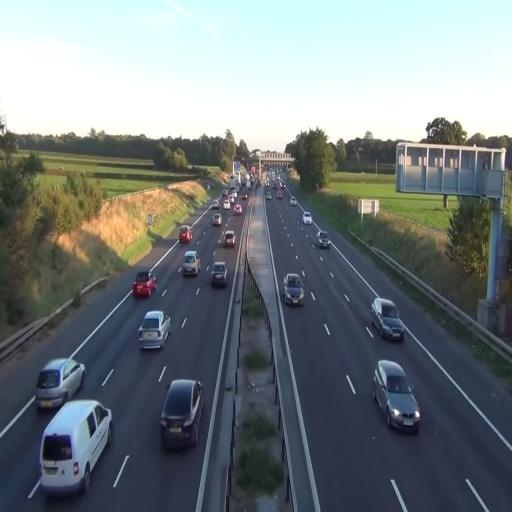vehicle: (39, 398, 113, 497), (372, 359, 422, 433), (160, 378, 204, 450), (35, 355, 85, 415), (370, 297, 404, 343), (138, 310, 171, 352), (283, 273, 305, 306), (132, 272, 156, 300), (182, 250, 200, 277), (211, 262, 229, 287), (223, 230, 236, 248), (211, 210, 223, 228), (318, 233, 330, 248)
